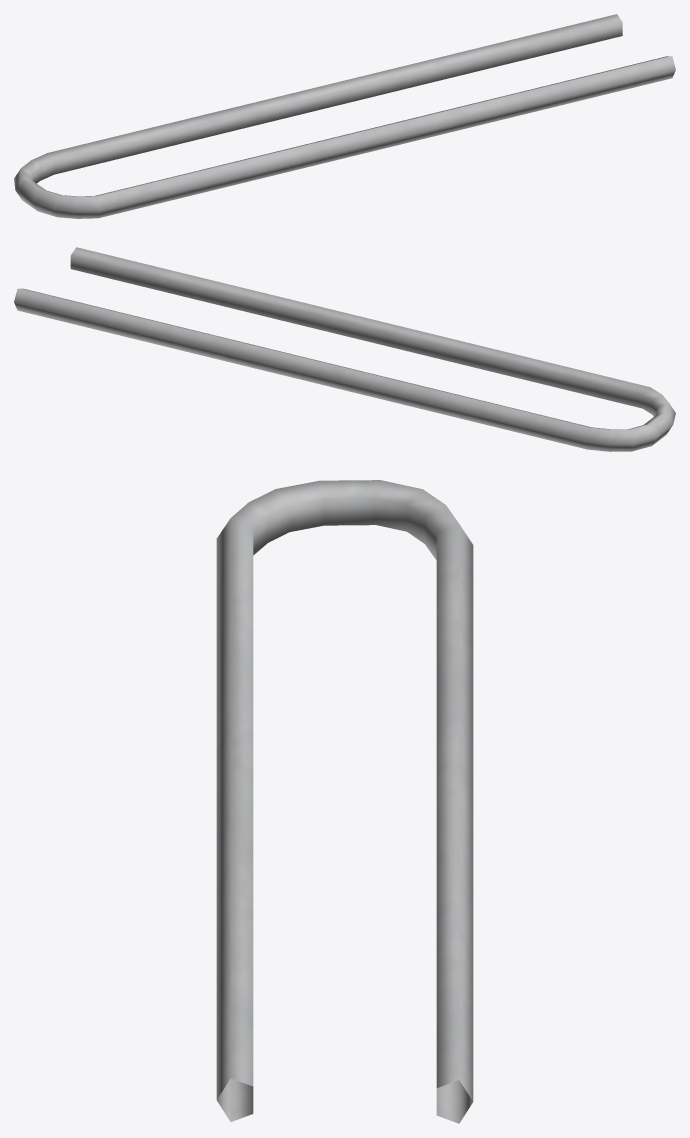
The model's file is bar.FBX.
3 renders of one model, top to bottom at view 1: azimuth 30°, elevation 25°; view 2: azimuth 150°, elevation 25°; view 3: azimuth 270°, elevation 25°, orthographic. The views are drawn at different scales.
Visible parts, largest first — view 1: bar; view 2: bar; view 3: bar.
Boxes of the visible parts, <box> form: bar: <box>14,14,675,218</box>; bar: <box>14,247,675,451</box>; bar: <box>216,480,473,1123</box>.
Bounding box in the file's own units: 0.1971 × 0.00666 × 0.0353.
